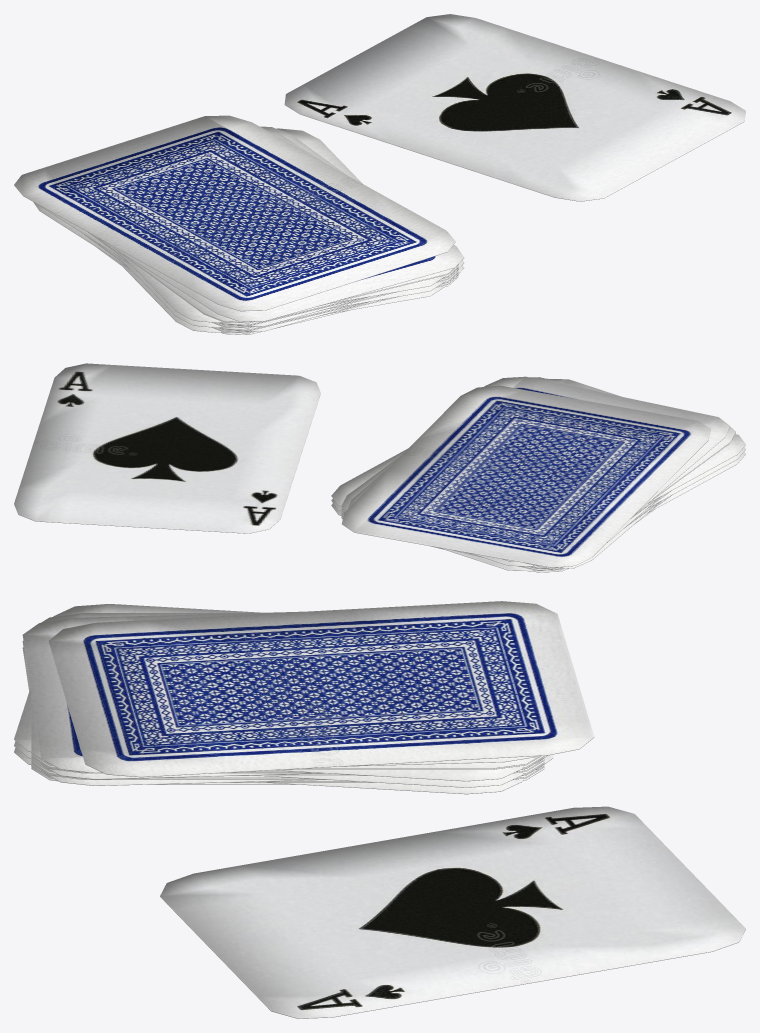
The model's file is playing_cards.glb.
3 views of the same model, one above another, from view 1: azimuth 30°, elevation 25°; view 2: azimuth 150°, elevation 25°; view 3: azimuth 270°, elevation 25° (orthographic). The views are drawn at different scales.
Visible parts, largest first — view 1: Object_2; view 2: Object_2; view 3: Object_2.
Boxes of the visible parts, x1,y1,x2,y2 form: Object_2: (14, 14, 745, 334); Object_2: (14, 363, 745, 572); Object_2: (14, 601, 745, 1018).
Bounding box in the file's own units: 6.47 × 0.1379 × 4.99.
1 material, 1 textured.
